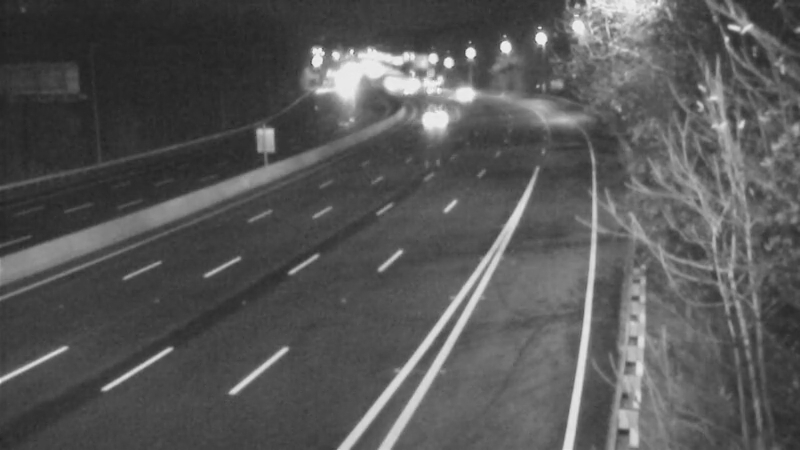vehicle: (412, 64, 462, 114), (438, 67, 488, 117), (402, 102, 452, 152)
